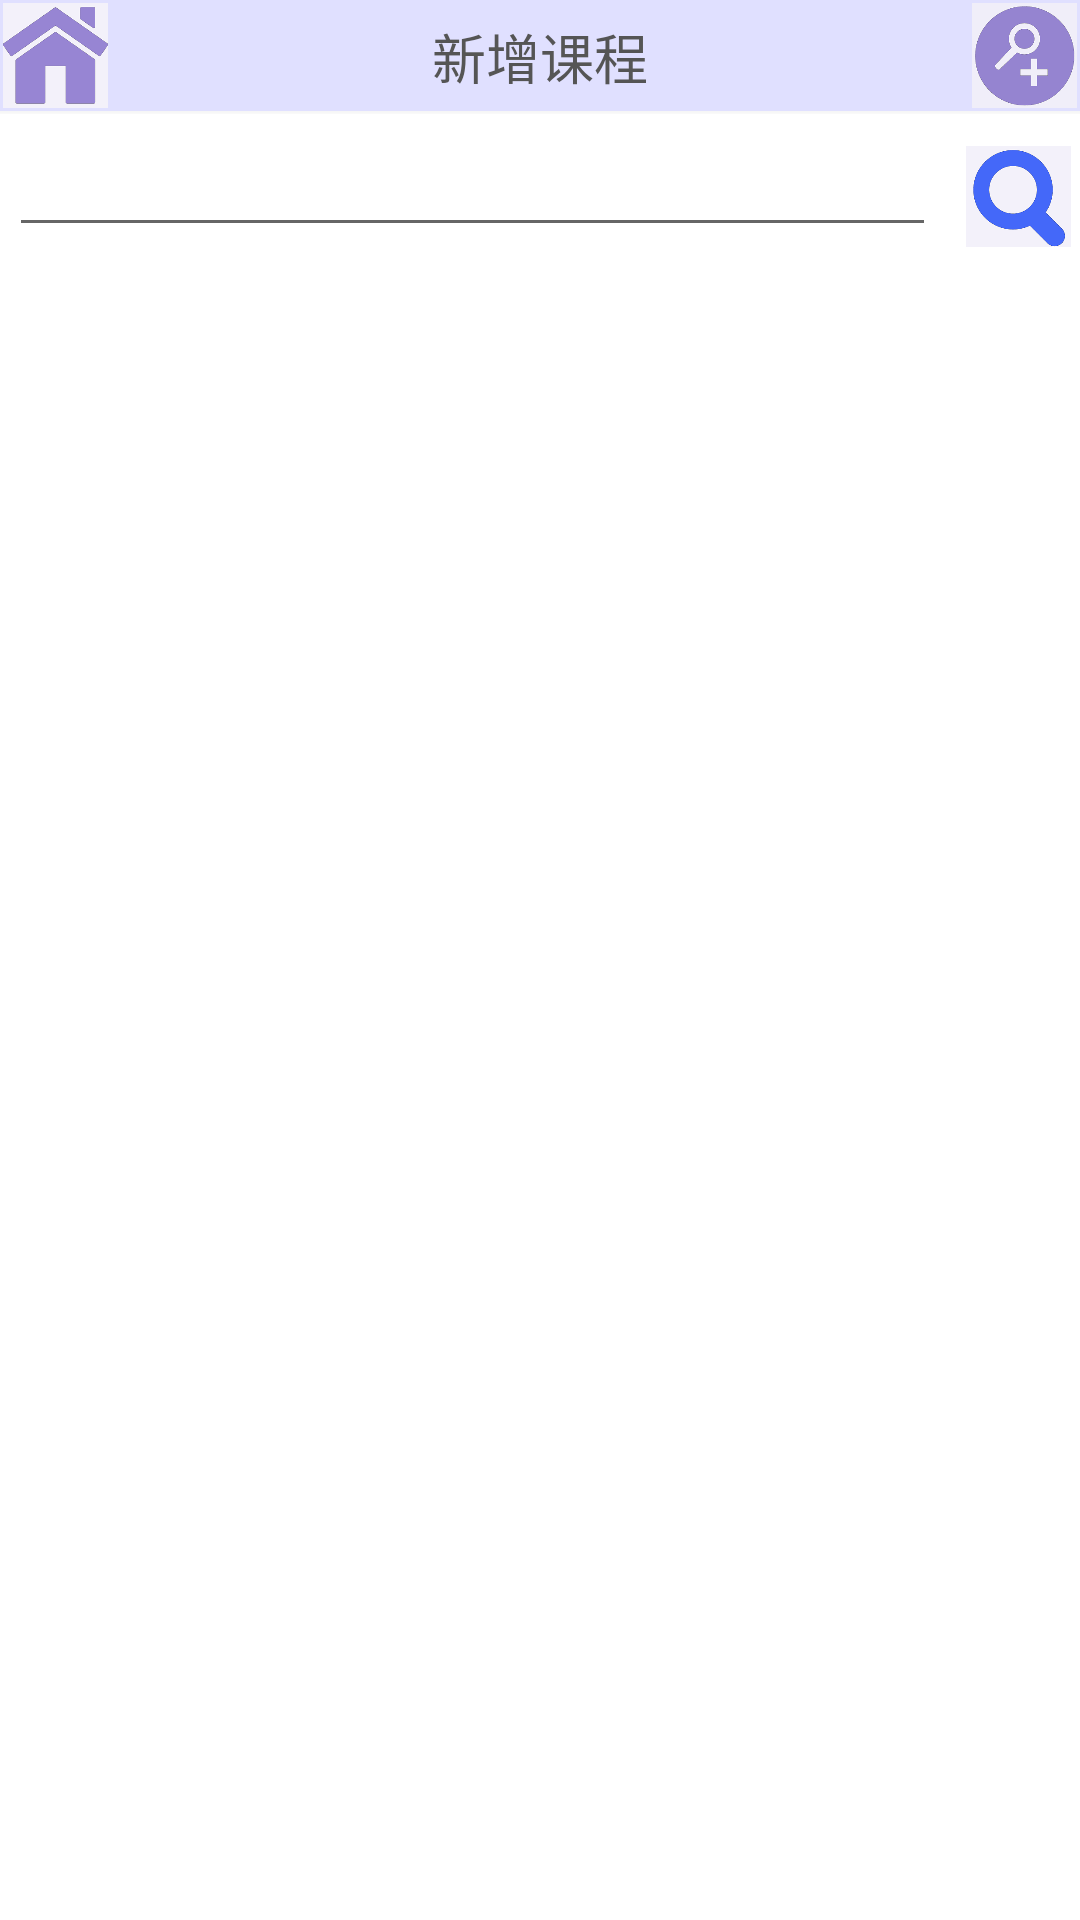

Icons on this 1080w x 1920h Android screen, each with its box as rect(x1, y1, x2, y2):
search: rect(966, 146, 1071, 247)
search advance: rect(975, 6, 1074, 106)
